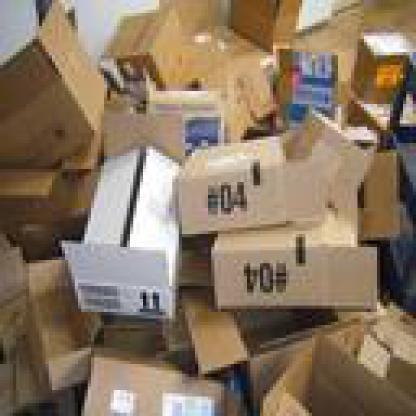CARDBOARD: (65, 143, 179, 312), (23, 250, 156, 387), (0, 0, 104, 166), (276, 4, 413, 110), (208, 224, 374, 306), (234, 309, 364, 403), (257, 335, 413, 413), (283, 104, 370, 240), (169, 134, 293, 228), (179, 20, 273, 134), (325, 299, 413, 413), (0, 289, 75, 413), (78, 351, 221, 413), (104, 87, 221, 162), (0, 166, 88, 247), (98, 10, 186, 88), (0, 166, 72, 256), (172, 286, 244, 370), (354, 30, 413, 98), (224, 0, 299, 52), (361, 150, 393, 240), (332, 0, 413, 29), (160, 0, 228, 26)
